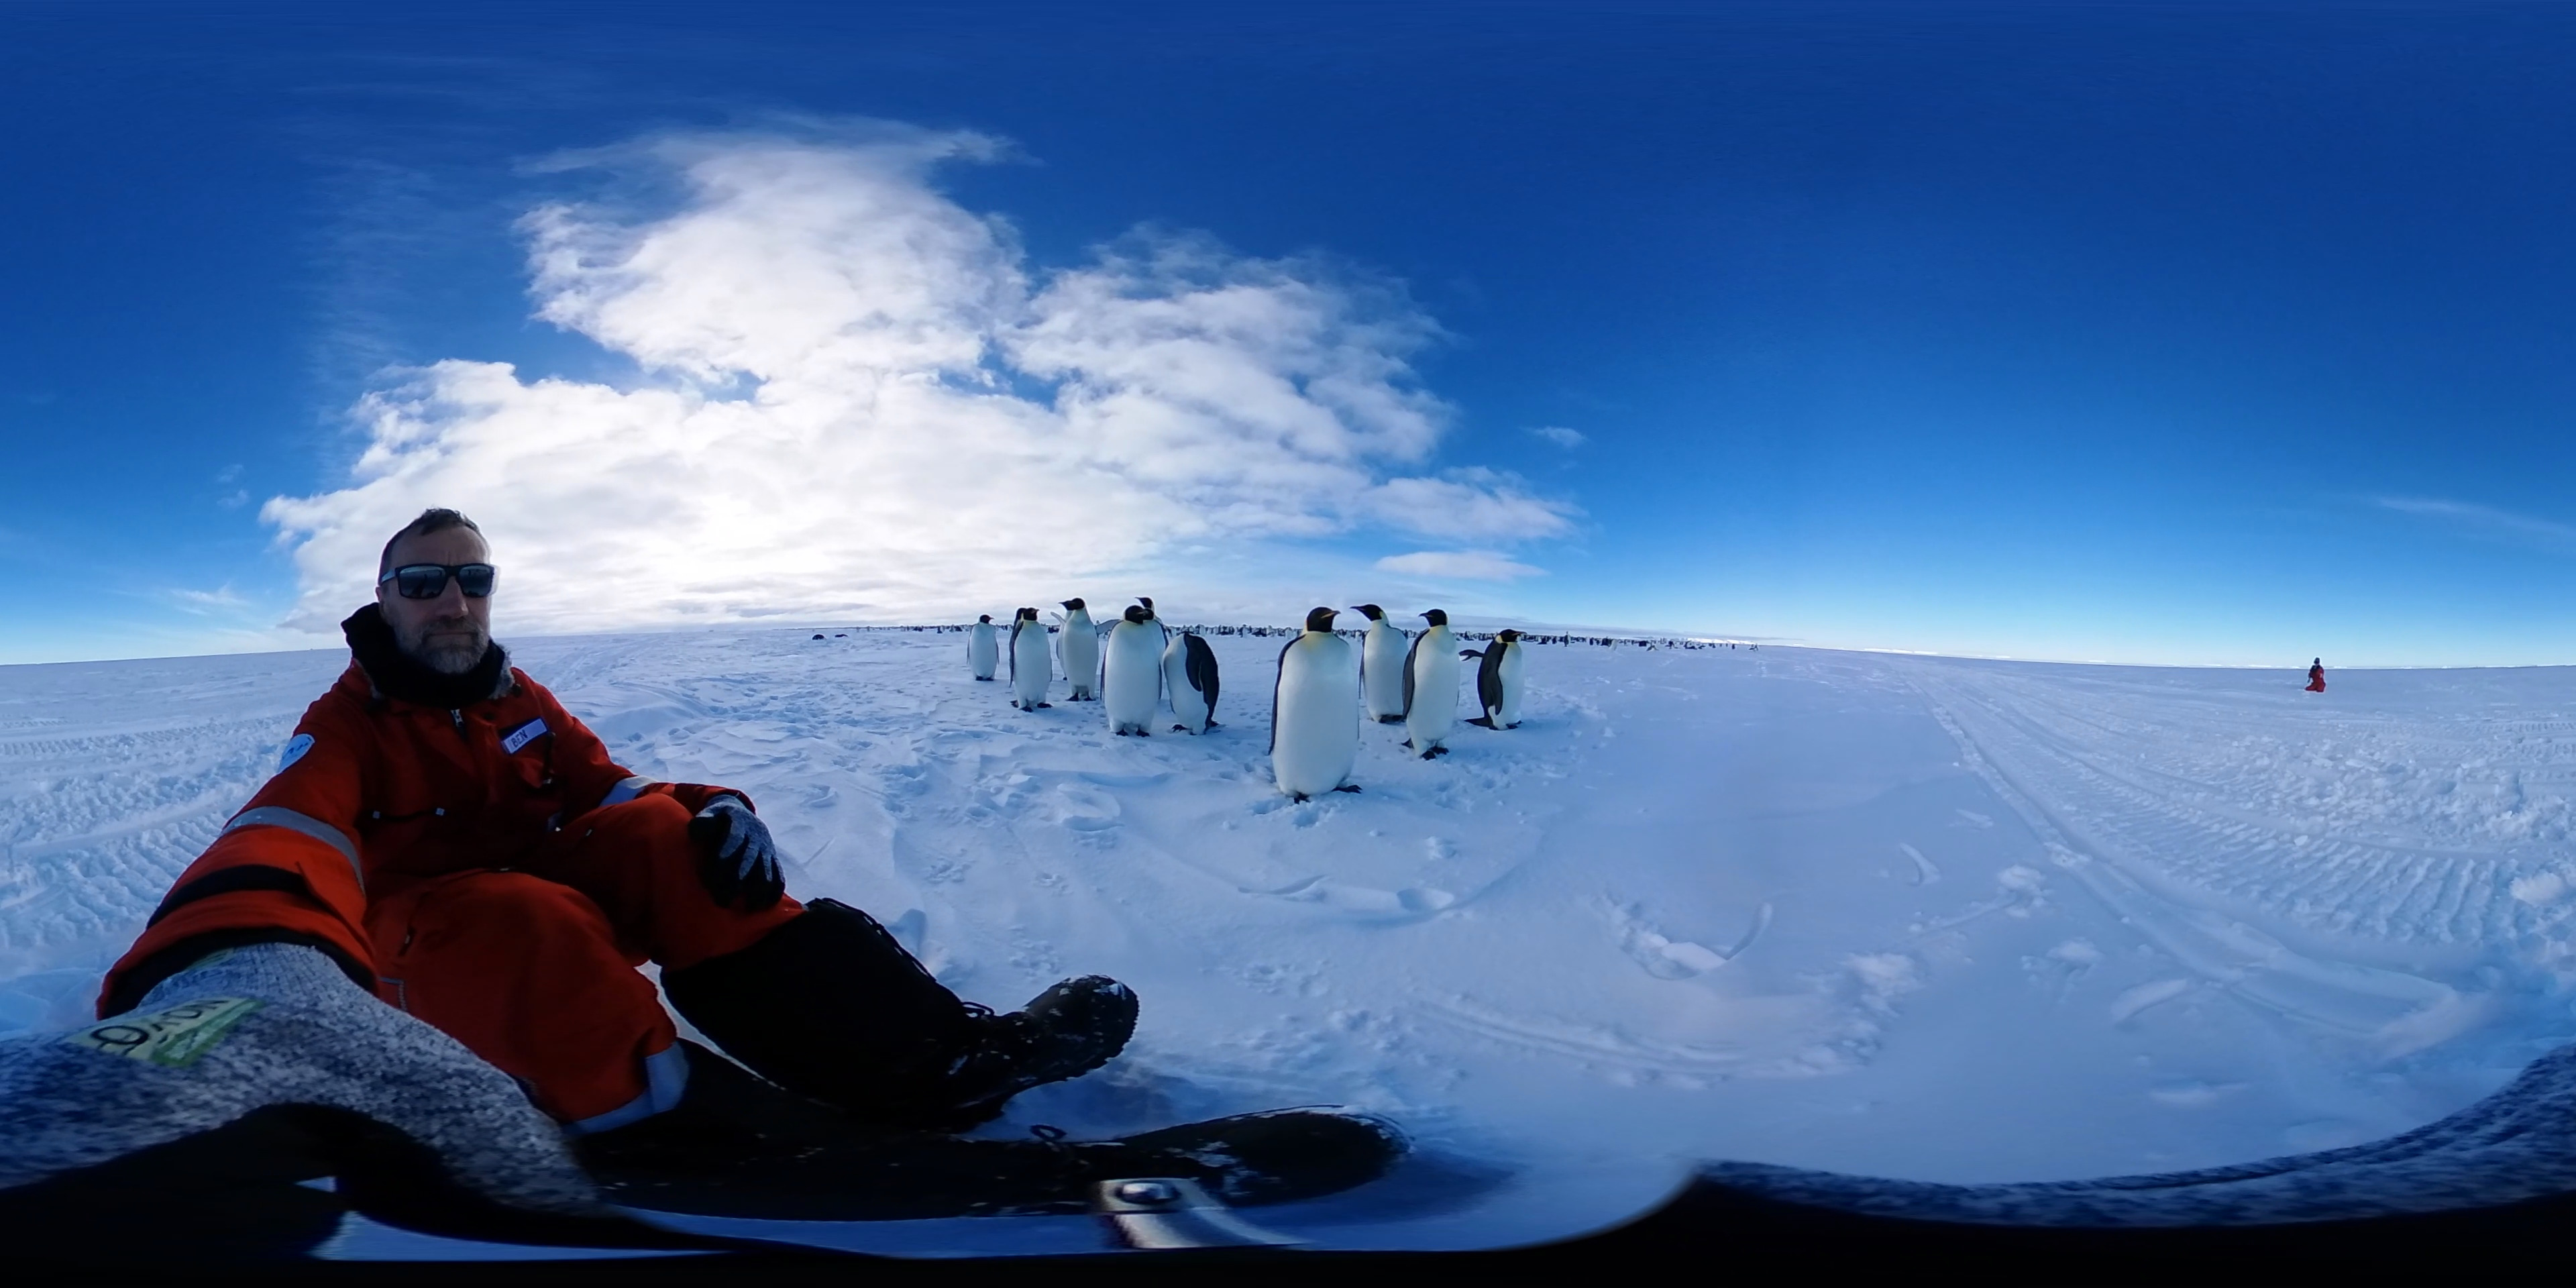adult_standing_penguin: (1270, 605, 1364, 805), (1398, 608, 1457, 761), (1350, 600, 1414, 728), (1102, 605, 1160, 743), (1158, 626, 1226, 741), (1009, 605, 1058, 718), (1477, 626, 1526, 733), (1058, 593, 1101, 703), (963, 609, 1002, 683)
adult_toboggan_penguin: (1454, 647, 1493, 664), (808, 632, 831, 642)
researcher: (125, 491, 828, 1258), (2305, 655, 2328, 695)
